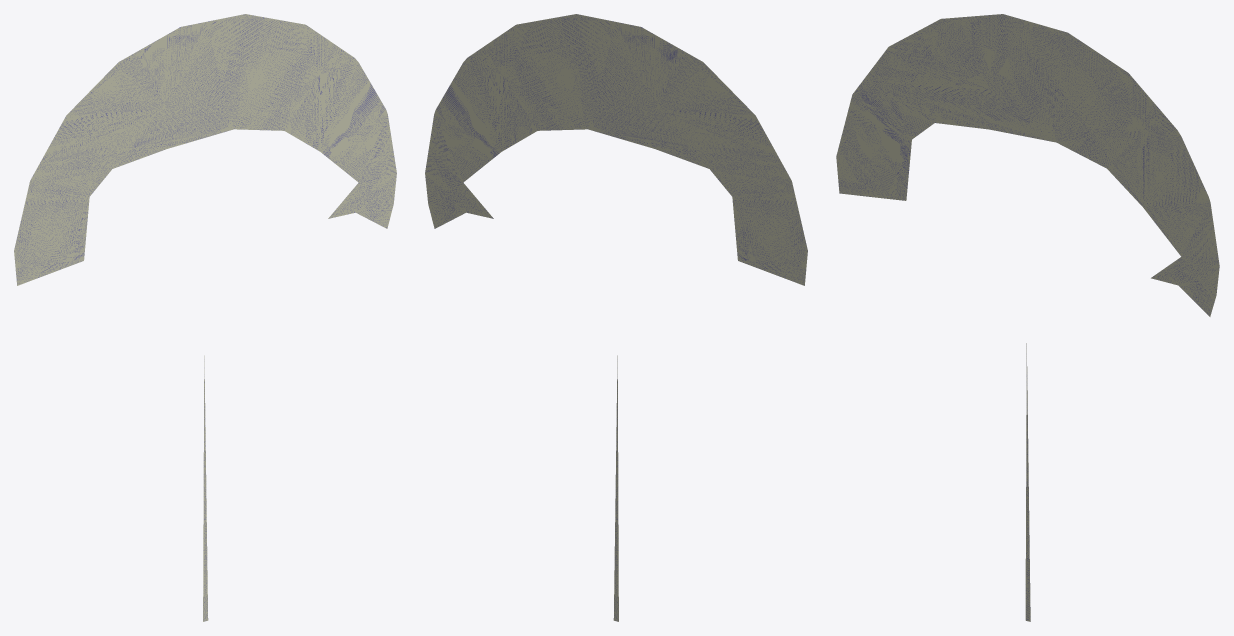
Rendered from sketch-tree.dae.
The picture shows the model from 3 angles, left to right: view 1: azimuth 30°, elevation 25°; view 2: azimuth 150°, elevation 25°; view 3: azimuth 330°, elevation 25°; orthographic projection.
Parts seen in each view (by area): view 1: SketchUp (×2); view 2: SketchUp (×2); view 3: SketchUp (×2).
Boxes of the visible parts, left/top/right/bottom form: SketchUp (×2): left=14, top=14, right=396, bottom=621; SketchUp (×2): left=425, top=14, right=807, bottom=621; SketchUp (×2): left=836, top=14, right=1219, bottom=621.
Bounding box in the file's own units: 160 × 0 × 240.
